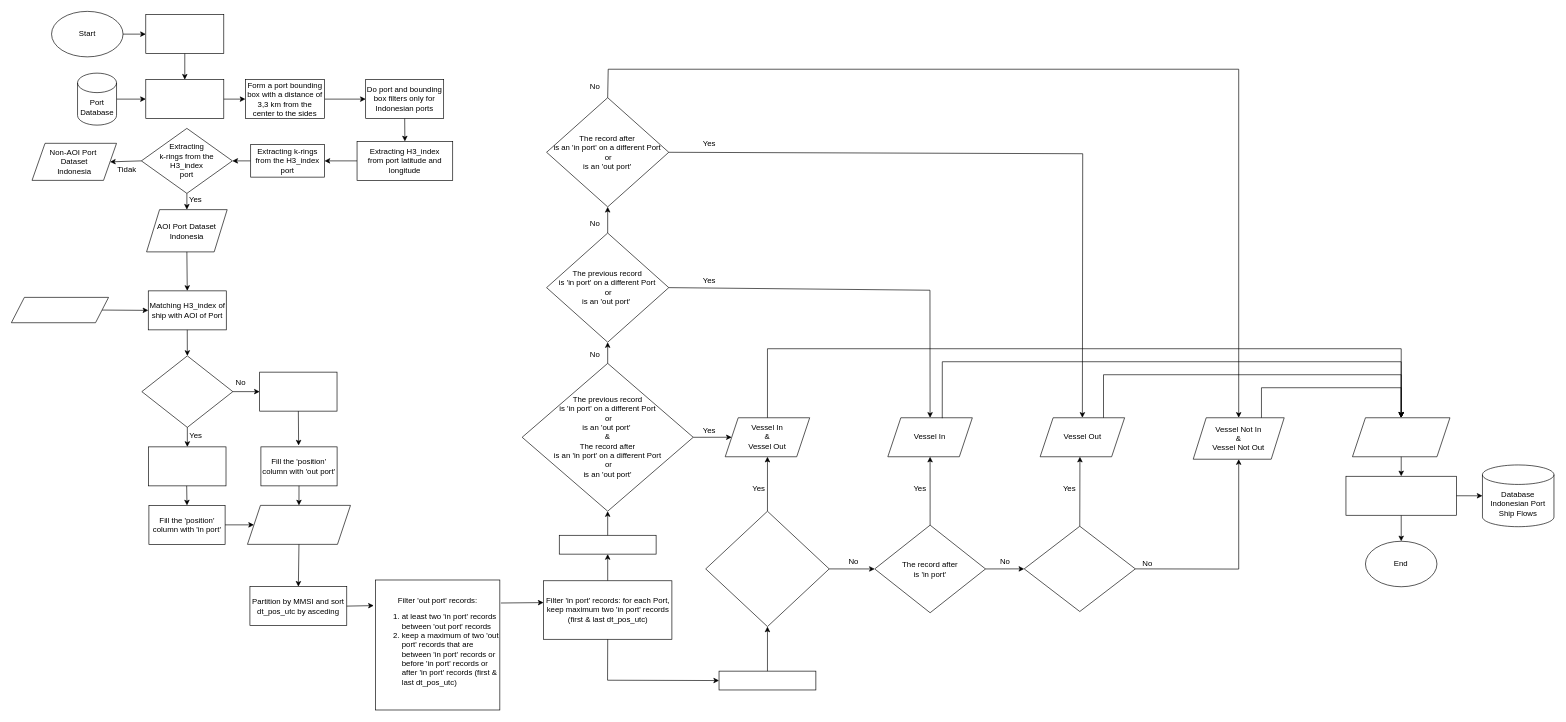
Image size: 1566x722. Some labels were removed from this diagram. The centre of each missing label's shape, as x and y in pixels:
"AIS Data (Vessel) Preprocessing Result" goes at (x=60, y=310).
"H3_index ship = Port AOI" goes at (x=187, y=391).
"import required package" goes at (x=184, y=34).
"Label the record 'in port'" goes at (x=607, y=544).
"Label the record 'out port'" goes at (x=767, y=680).
"read world port data using the WPI website API" goes at (x=184, y=99).
"Save the Ship In and Out of Indonesian Ports Dataset to UNGP Database" goes at (x=1400, y=495).
"Ship In and Out of Indonesian Ports Dataset" goes at (x=1401, y=437).
"The previous record is 'in port'" goes at (x=1079, y=569).
"The record after is 'in port' & The previous record is 'in port'" goes at (x=767, y=569).
"Vessel and Position ('in port' or 'out port') Dataset" goes at (x=298, y=524).
"Vessel is outside the AOI of the Port" goes at (x=298, y=391).
"Vessel is within the AOI of the Port" goes at (x=187, y=466).
